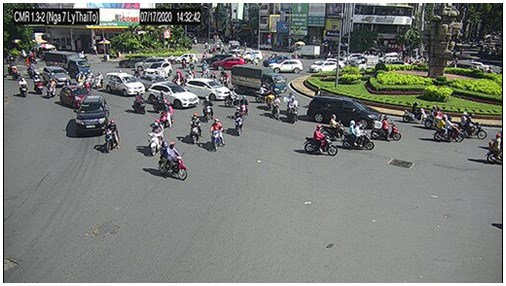xe_hoi: (305, 96, 385, 128), (73, 94, 109, 138), (147, 79, 200, 108), (103, 72, 144, 97), (185, 80, 229, 101), (59, 84, 89, 108), (41, 65, 70, 86), (266, 59, 304, 74), (210, 56, 247, 69), (144, 62, 172, 79), (309, 60, 342, 73), (134, 57, 166, 70), (118, 56, 150, 69)
xe_may: (158, 141, 188, 182), (303, 124, 337, 158), (342, 120, 374, 151), (454, 113, 488, 140), (317, 114, 347, 142), (371, 116, 403, 141), (433, 117, 463, 142), (145, 119, 164, 156), (424, 105, 452, 129), (102, 120, 120, 155), (484, 132, 502, 166), (403, 101, 427, 123), (209, 118, 224, 152), (157, 101, 174, 129), (189, 112, 202, 144), (131, 91, 147, 115), (232, 107, 244, 137), (255, 84, 272, 103), (6, 57, 19, 80), (32, 73, 44, 96), (287, 96, 297, 123), (17, 76, 29, 98), (269, 94, 280, 118), (45, 78, 56, 100), (93, 71, 104, 90), (83, 69, 92, 87), (240, 93, 247, 115), (219, 66, 226, 88), (180, 56, 187, 68)
xe_tai: (230, 65, 289, 97), (42, 51, 91, 79), (291, 43, 320, 57), (353, 56, 379, 70)
